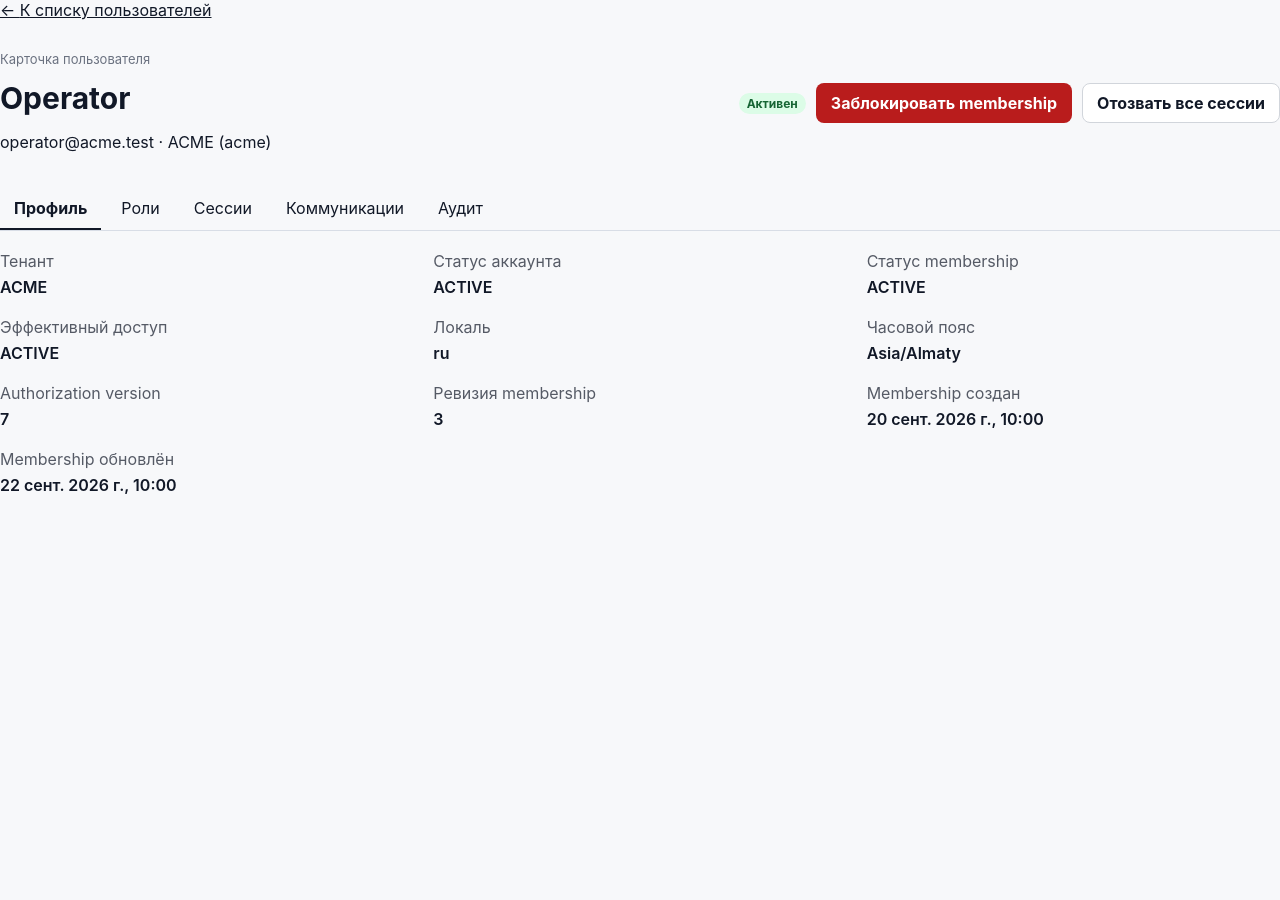
Test: PlatformUserDetailPage › requires a reason before revoking all sessions
Click the button "Отозвать все сессии": click(1181, 103) x1=1082 y1=83 x2=1279 y2=123
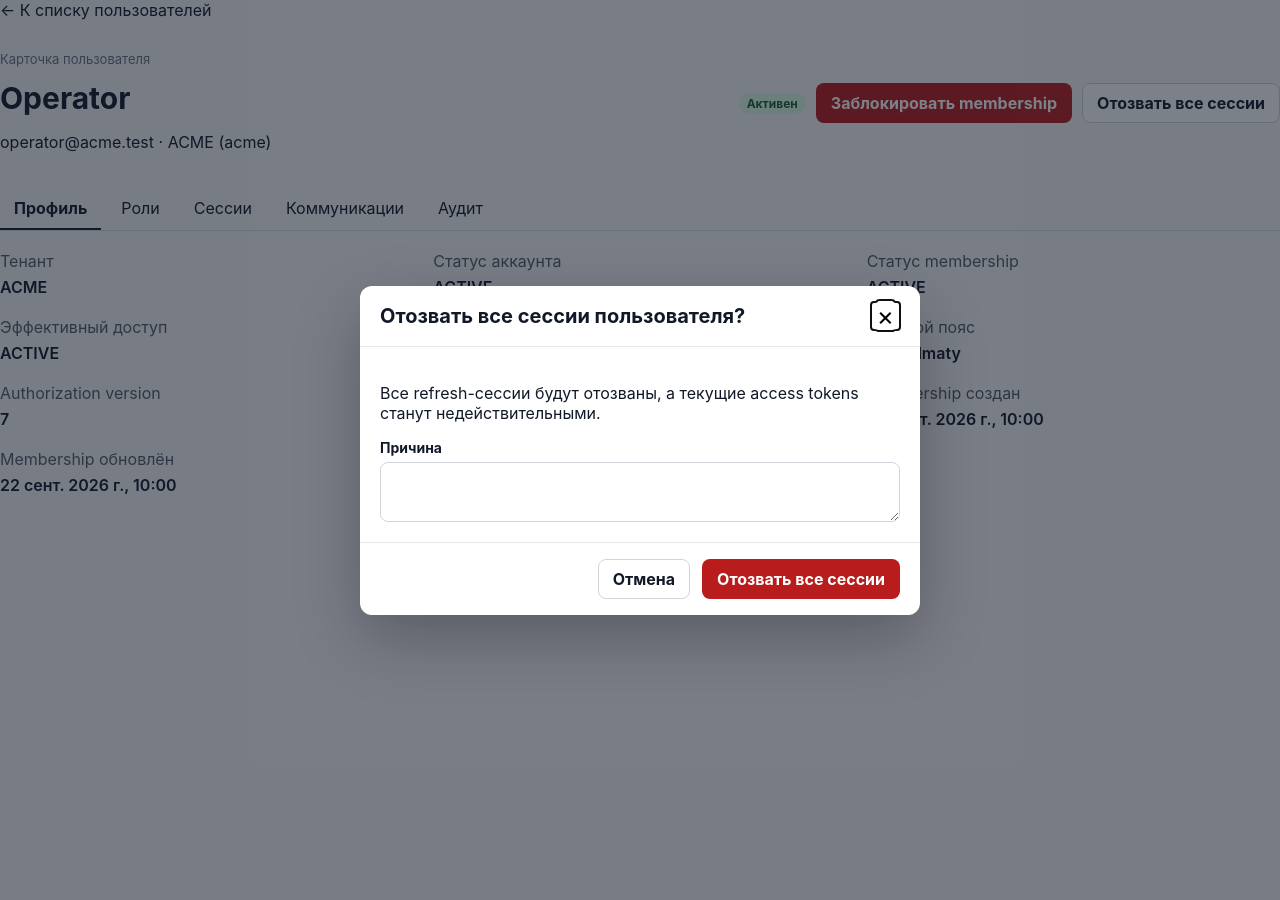
Click the button "Отозвать все сессии": click(801, 578) x1=702 y1=558 x2=900 y2=598
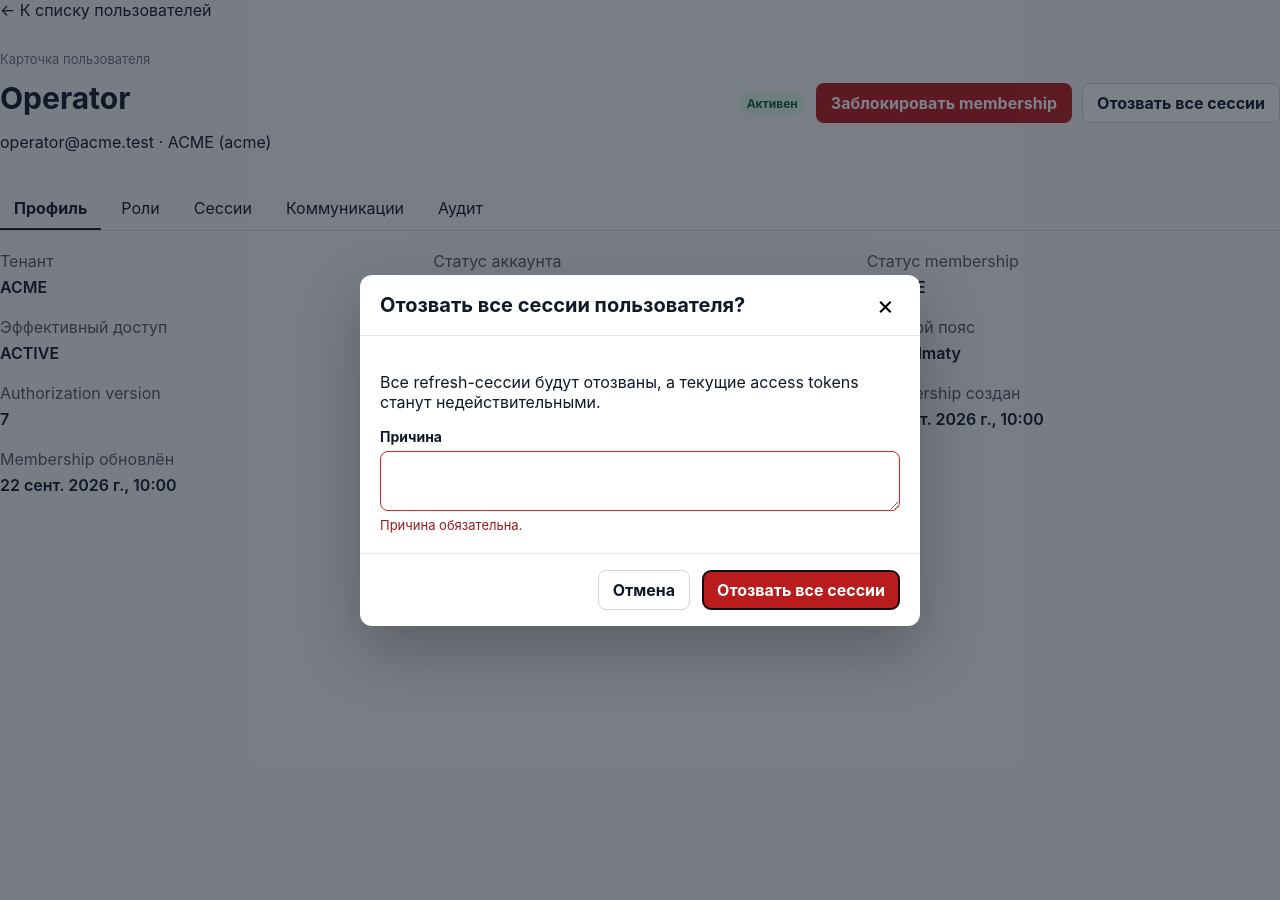
Now the text "Причина обязательна." is shown, box x1=380 y1=516 x2=522 y2=532
